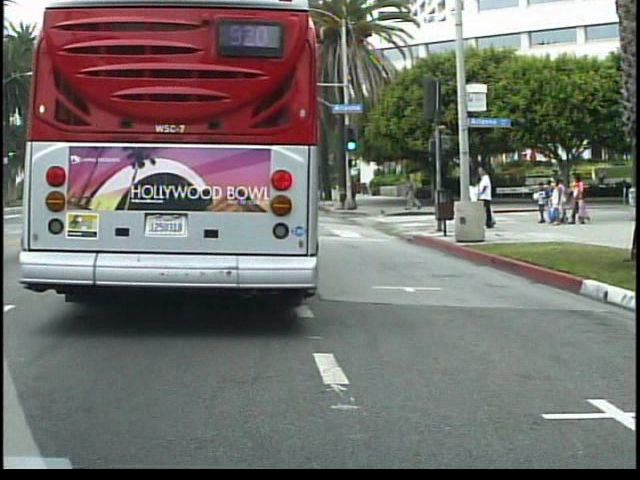person: (474, 162, 500, 232), (464, 172, 486, 225), (404, 172, 423, 214)
